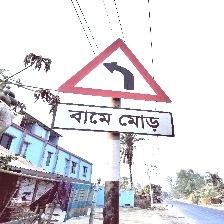Left-Turn: (55, 39, 175, 138)
